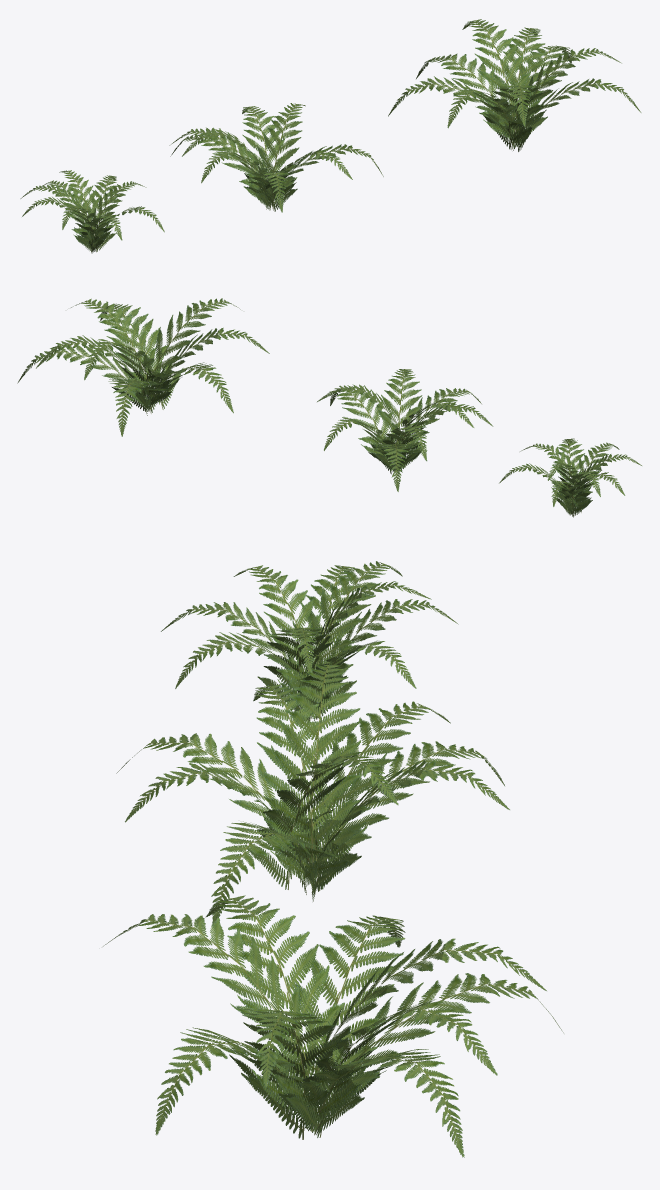
The model's file is Ferns.obj.
The picture shows the model from 3 angles, top to bottom: view 1: azimuth 30°, elevation 25°; view 2: azimuth 150°, elevation 25°; view 3: azimuth 270°, elevation 25°; orthographic projection. The views are drawn at different scales.
Parts seen in each view (by area): view 1: Plane.021_Plane.022, Plane.012_Plane.013, Plane.026_Plane.027, Plane.022_Plane.023, Plane.019_Plane.020, Plane.013_Plane.014, Plane.025_Plane.026, Plane.024_Plane.025, Plane.018_Plane.019, Plane.023_Plane.024, Plane.020_Plane.021, Plane (+13 smaller); view 2: Plane.019_Plane.020, Plane.022_Plane.023, Plane.023_Plane.024, Plane.011_Plane.012, Plane.016_Plane.017, Plane.021_Plane.022, Plane.025_Plane.026, Plane.018_Plane.019, Plane.020_Plane.021, Plane.015_Plane.016, Plane.009_Plane.010, Plane.024_Plane.025 (+14 smaller); view 3: Plane.014_Plane.015, Plane.024_Plane.025, Plane.019_Plane.020, Plane.020_Plane.021, Plane.022_Plane.023, Plane.025_Plane.026, Plane.010_Plane.011, Plane.018_Plane.019, Plane.009_Plane.010, Plane.023_Plane.024, Plane.015_Plane.016, Plane.012_Plane.013 (+15 smaller).
Part boxes in pixels (bbox=[...]): Plane.021_Plane.022: bbox=[462, 19, 541, 135]; Plane.012_Plane.013: bbox=[249, 103, 305, 211]; Plane.026_Plane.027: bbox=[484, 27, 546, 149]; Plane.022_Plane.023: bbox=[515, 48, 621, 151]; Plane.019_Plane.020: bbox=[484, 85, 546, 140]; Plane.013_Plane.014: bbox=[242, 106, 297, 208]; Plane.025_Plane.026: bbox=[416, 53, 521, 138]; Plane.024_Plane.025: bbox=[447, 87, 532, 149]; Plane.018_Plane.019: bbox=[497, 45, 571, 147]; Plane.023_Plane.024: bbox=[513, 78, 641, 150]; Plane.020_Plane.021: bbox=[388, 76, 512, 140]; Plane: bbox=[59, 170, 105, 247]; Plane.019_Plane.020: bbox=[138, 298, 240, 403]; Plane.022_Plane.023: bbox=[71, 298, 165, 413]; Plane.023_Plane.024: bbox=[100, 303, 183, 409]; Plane.011_Plane.012: bbox=[373, 369, 424, 472]; Plane.016_Plane.017: bbox=[330, 386, 404, 462]; Plane.021_Plane.022: bbox=[84, 339, 170, 399]; Plane.025_Plane.026: bbox=[108, 378, 171, 436]; Plane.018_Plane.019: bbox=[17, 344, 148, 408]; Plane.020_Plane.021: bbox=[135, 362, 233, 413]; Plane.015_Plane.016: bbox=[388, 388, 481, 468]; Plane.009_Plane.010: bbox=[373, 425, 427, 474]; Plane.024_Plane.025: bbox=[153, 327, 269, 407]; Plane.014_Plane.015: bbox=[262, 664, 366, 875]; Plane.024_Plane.025: bbox=[205, 895, 358, 1131]; Plane.019_Plane.020: bbox=[103, 914, 328, 1111]; Plane.020_Plane.021: bbox=[271, 915, 405, 1131]; Plane.022_Plane.023: bbox=[241, 1009, 359, 1139]; Plane.025_Plane.026: bbox=[314, 973, 563, 1134]; Plane.010_Plane.011: bbox=[253, 684, 367, 890]; Plane.018_Plane.019: bbox=[278, 1049, 464, 1157]; Plane.009_Plane.010: bbox=[291, 701, 450, 894]; Plane.023_Plane.024: bbox=[155, 1027, 329, 1135]; Plane.015_Plane.016: bbox=[116, 733, 318, 888]; Plane.012_Plane.013: bbox=[247, 752, 398, 889].
Size of the model in its own units: 4.22 by 0.6533 by 1.59.
Materials: 1 (1 with a texture image).
